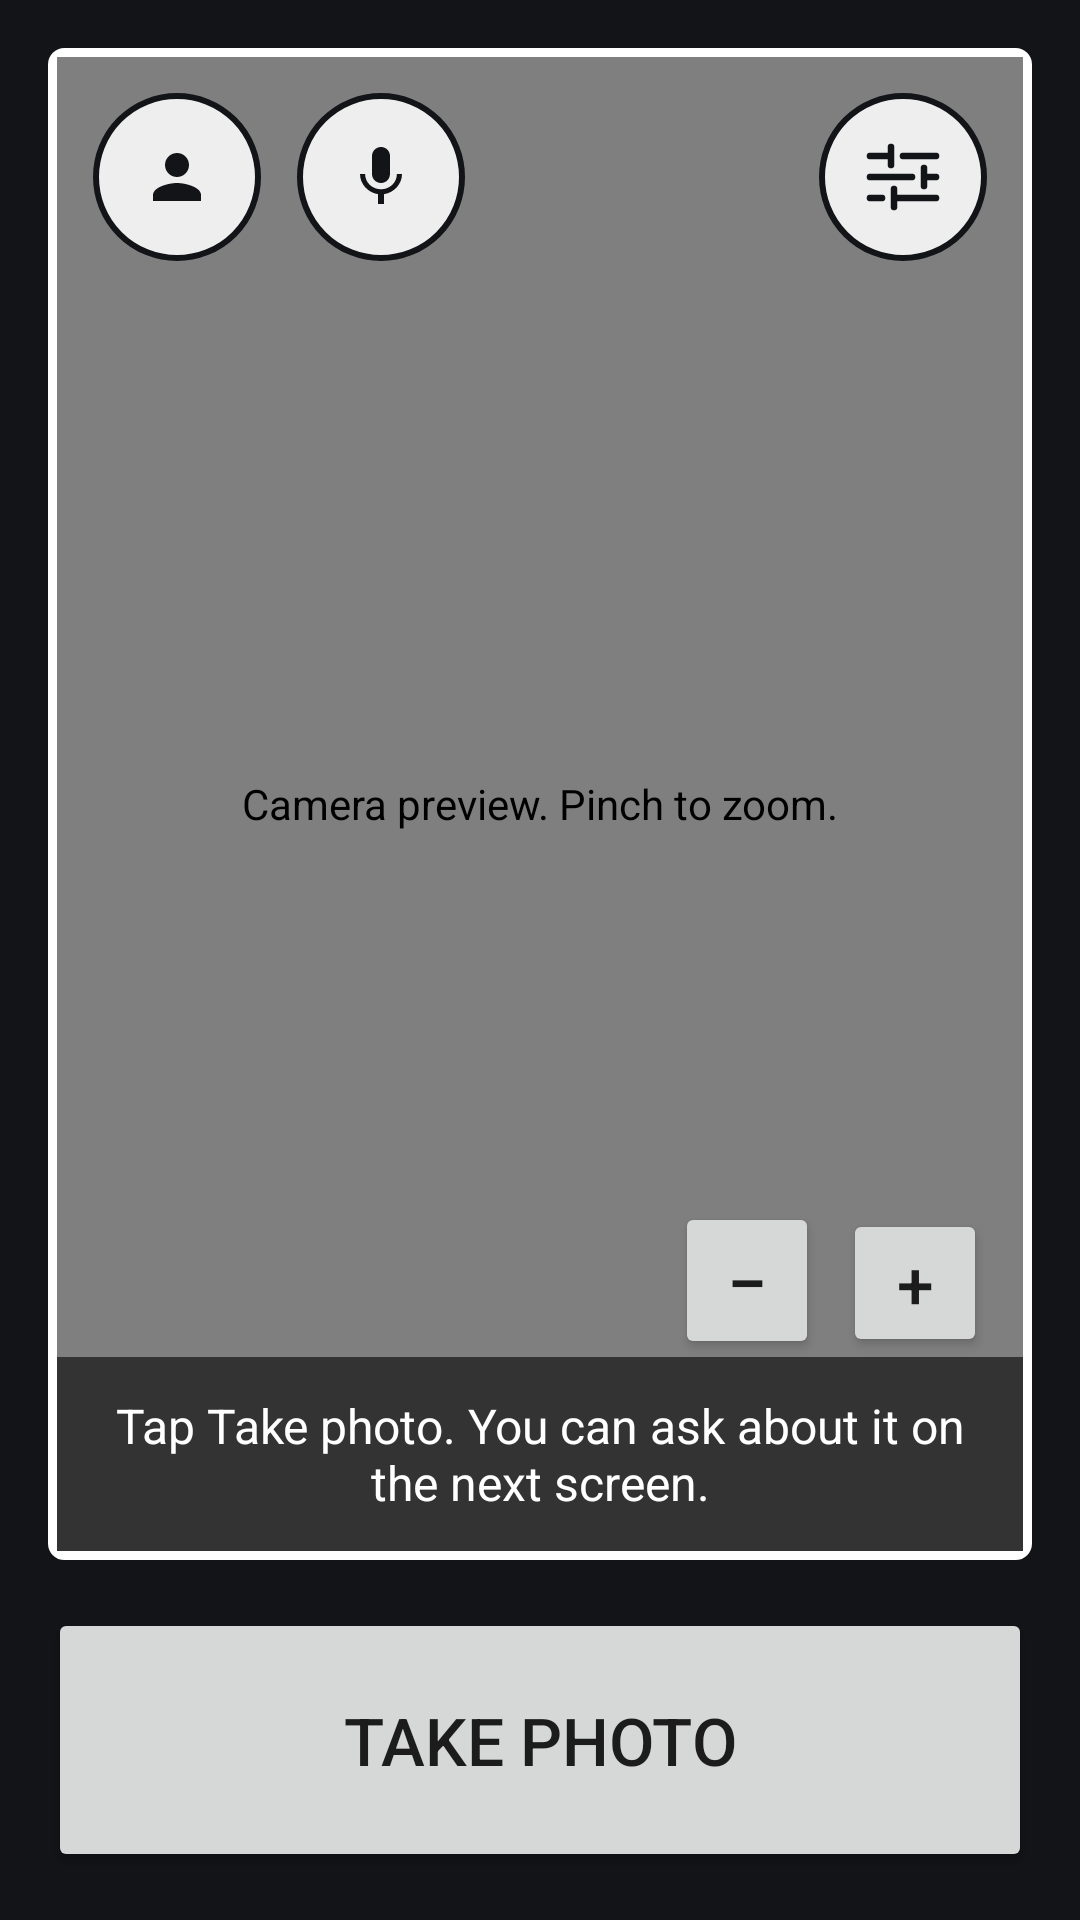

Icon bounding boxes for this 1080×1920 phone screenshot, format (x1, y1, x2, y2):
Edit your profile and dietary restrictions: (93, 93, 261, 261)
Microphone on. Tap to mute: (297, 93, 465, 261)
Processing settings: (819, 93, 987, 261)
